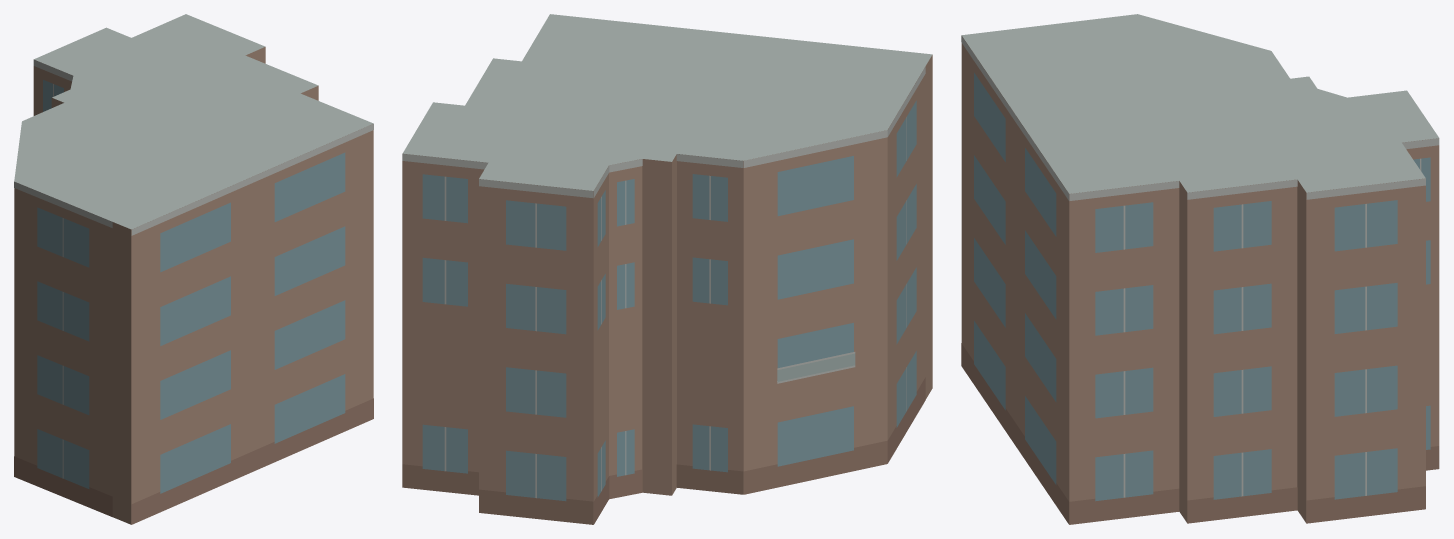
File: survey-upis-32616087.glb
3 views of the same model, side by side, from view 1: azimuth 30°, elevation 25°; view 2: azimuth 150°, elevation 25°; view 3: azimuth 270°, elevation 25° (orthographic). The views are drawn at different scales.
Visible parts, largest first — view 1: survey-upis-32616087.tmp; view 2: survey-upis-32616087.tmp; view 3: survey-upis-32616087.tmp.
Part boxes in pixels (x1,y1,x2,y2): survey-upis-32616087.tmp: [14, 14, 373, 524]; survey-upis-32616087.tmp: [402, 14, 932, 524]; survey-upis-32616087.tmp: [961, 14, 1439, 524].
Size of the model in its own units: 13.07 by 11.2 by 14.67.
